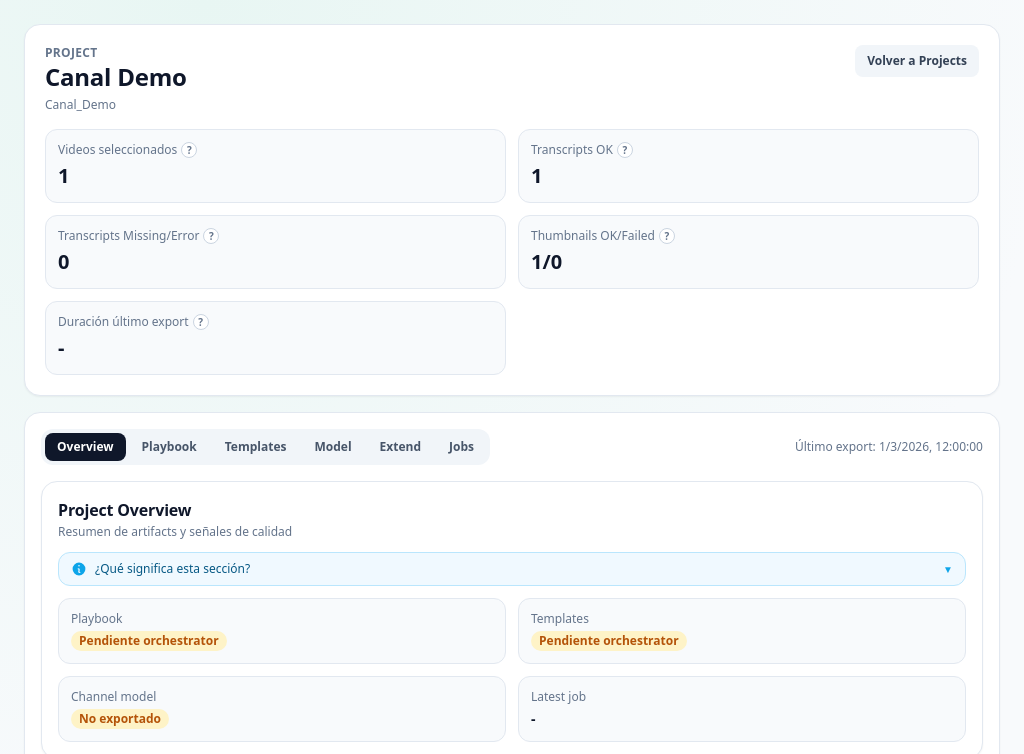
it: Projects pages › starts extend job from Extend tab and confirms reprocess for existing videos
The width and height of the screenshot is (1024, 754).
What coordinates should you click on to do the following:
click the button "Extend"
I would click on:
 (400, 447)
Its box is [368,433,433,461].
(page scrolled)
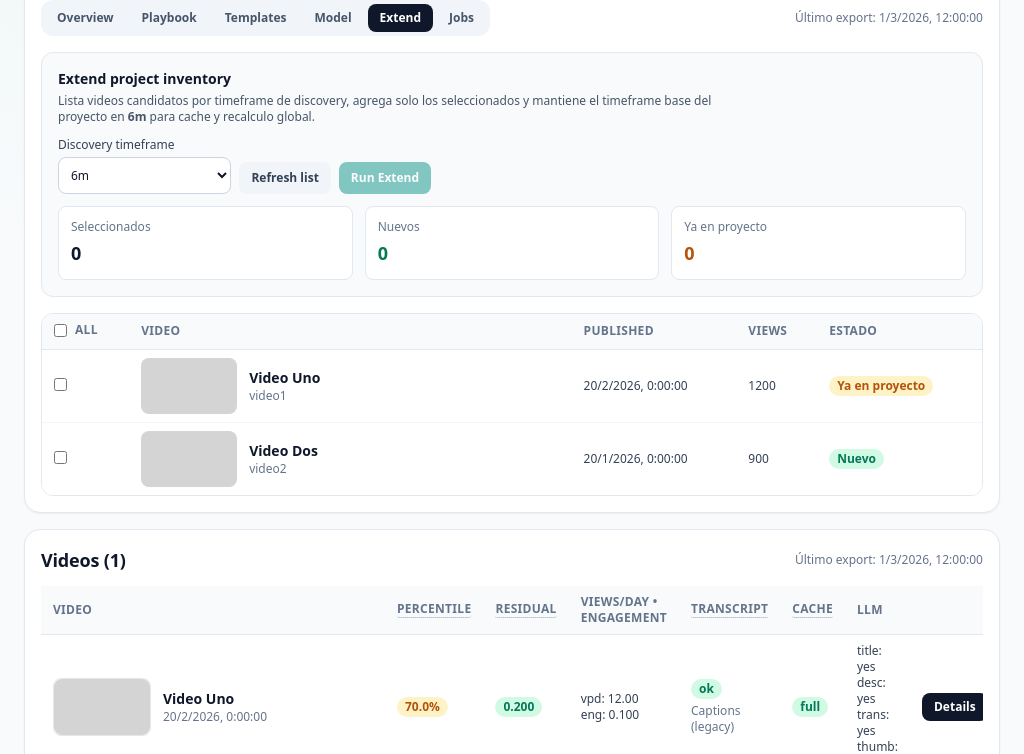
Expected: the text "Video Dos" is shown, [249,440,318,460]
What coordinates should you click on to do the following:
click the checkbox named "Seleccionar Video Uno"
I would click on:
 (60, 384)
Its box is [54,378,67,390].
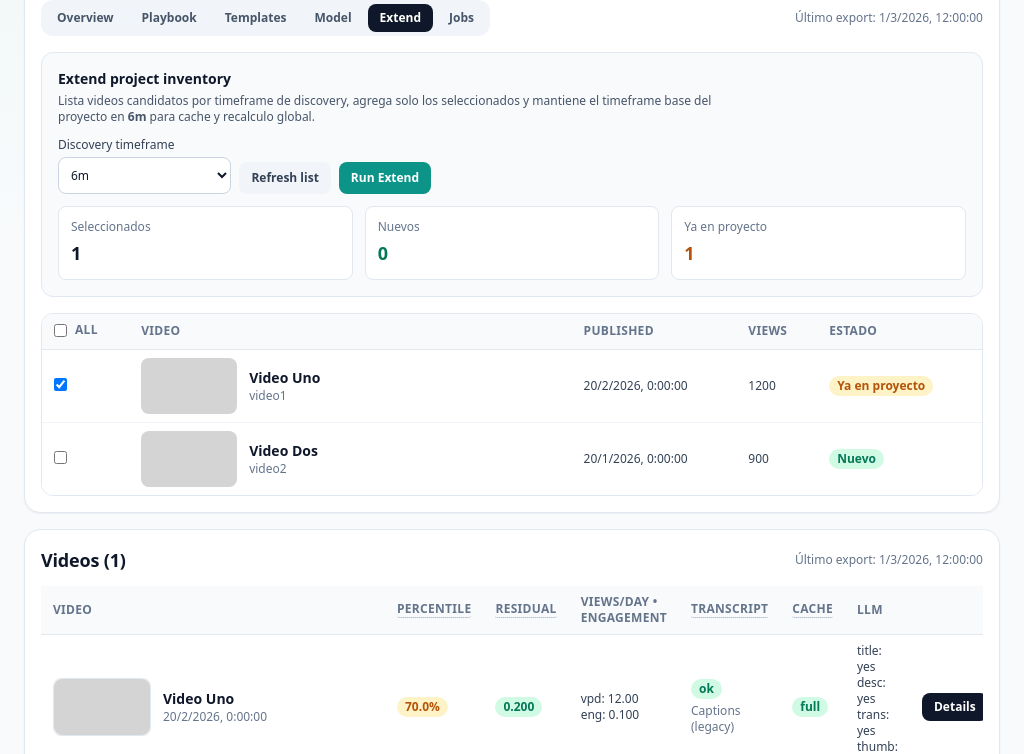
What coordinates should you click on to do the following:
click the checkbox named "Seleccionar Video Dos"
I would click on:
 (60, 457)
Its box is [54,450,67,464].
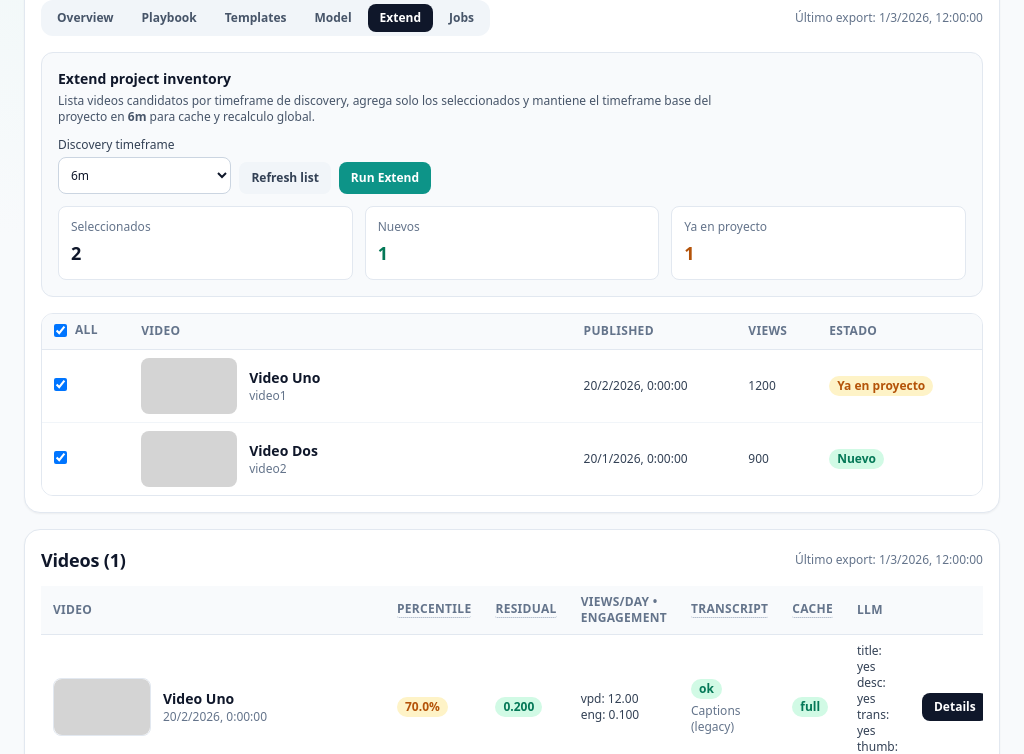
What coordinates should you click on to do the following:
click the button "Run Extend"
I would click on:
 (385, 178)
Its box is [339,162,431,194].
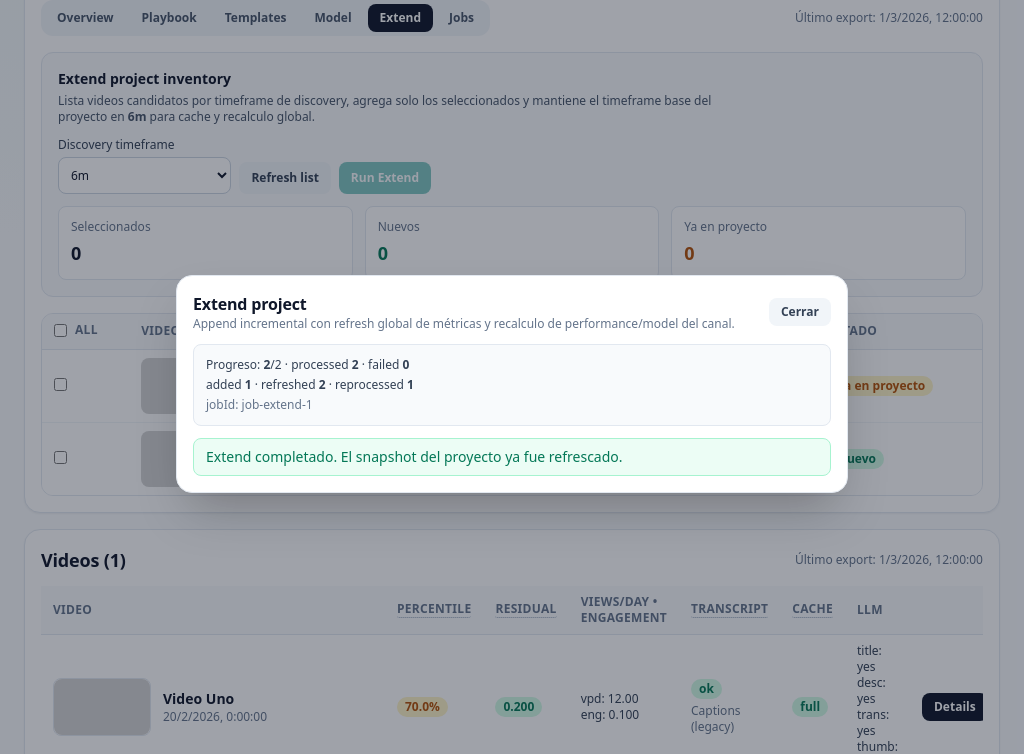
Expected: the text "Extend completado. El snapshot del proyecto ya fue refrescado." is shown, [193,438,831,476]
